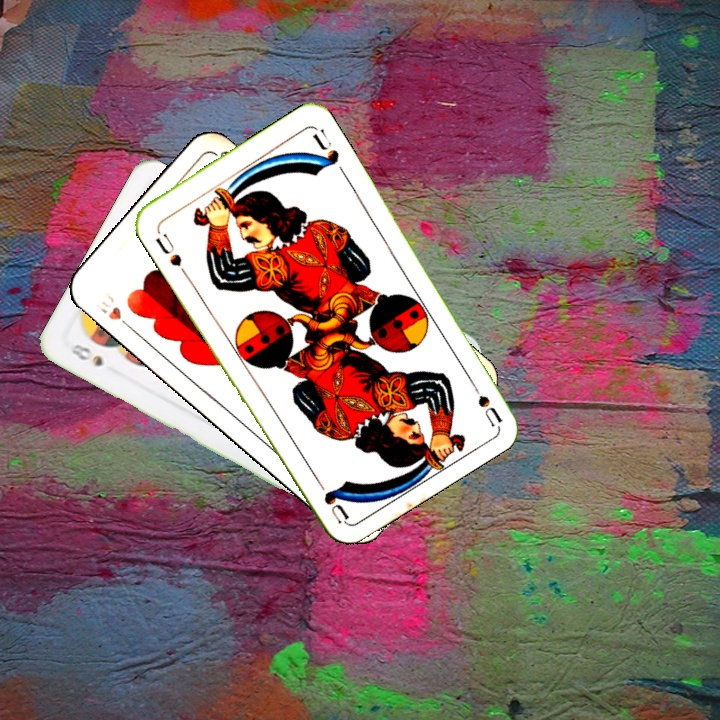H10: (90, 288, 137, 334)
S8: (66, 339, 106, 370)
SU: (463, 372, 503, 428), (151, 229, 185, 269)
